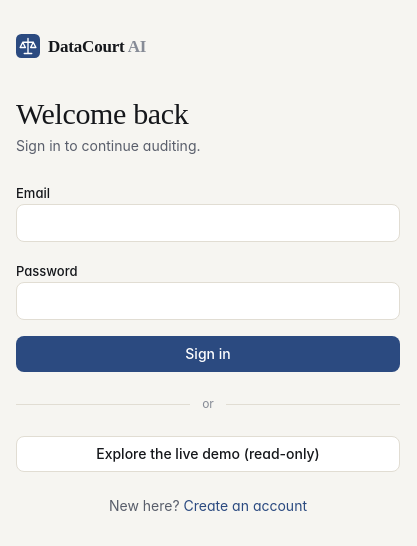
AuthForm › shows the server's error and stays on the page
This screenshot has width=417, height=546.
Type "a@example.com" into the field labelled "Email".
click(208, 223); type("a@example.com")  # box [16, 204, 400, 242]
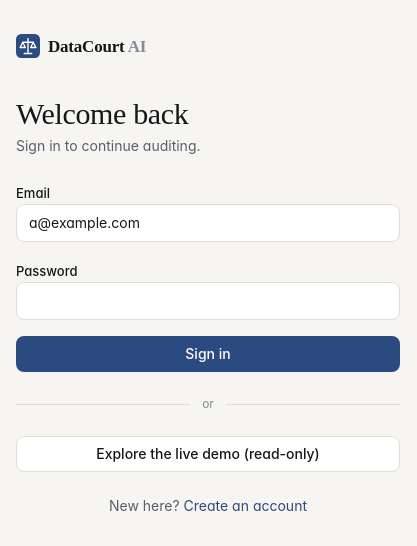
Type "wrong" into the password field labelled "Password".
click(208, 301); type("wrong")  # box [16, 282, 400, 320]
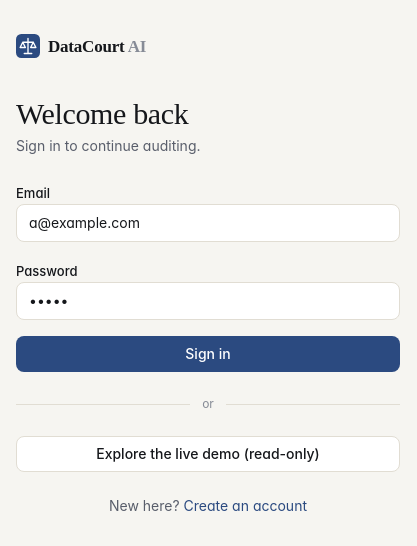
Click the button "Sign in".
click(208, 354)  # box [16, 336, 400, 372]
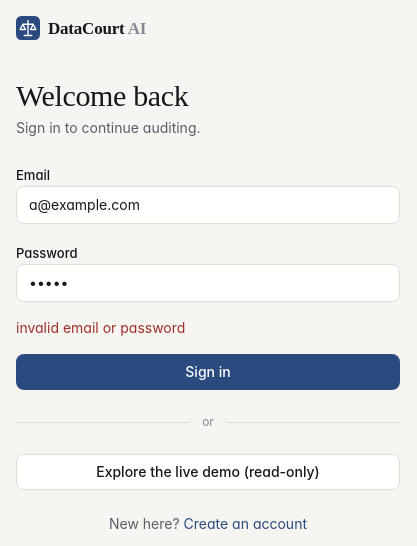
Expected: the message reads "invalid email or password", [16, 319, 185, 336]
